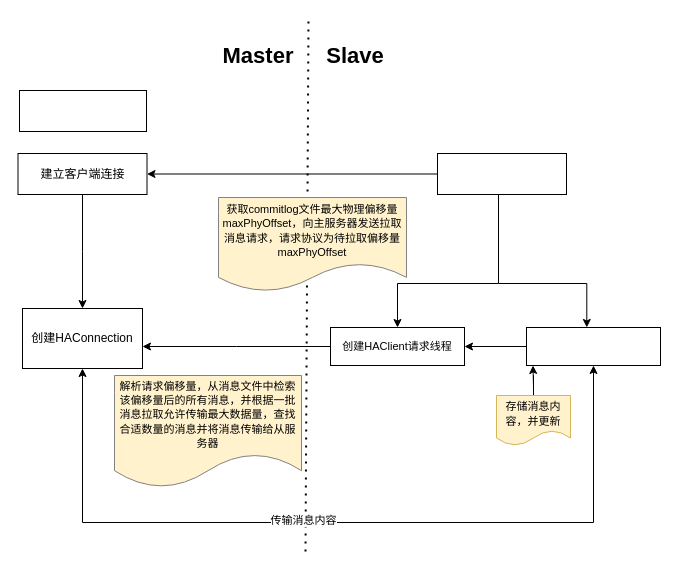
Image size: 678x570. Some labels were removed from this diagram. The shapes that lost their labels are listed below. From the top down, each one's box as (x1, y1, x2, y2) in pixels, then its label:
(18, 90, 146, 132): 启动并监听
(436, 152, 566, 194): 启动并连接主服务器
(526, 326, 660, 366): 创建HAClient响应线程
